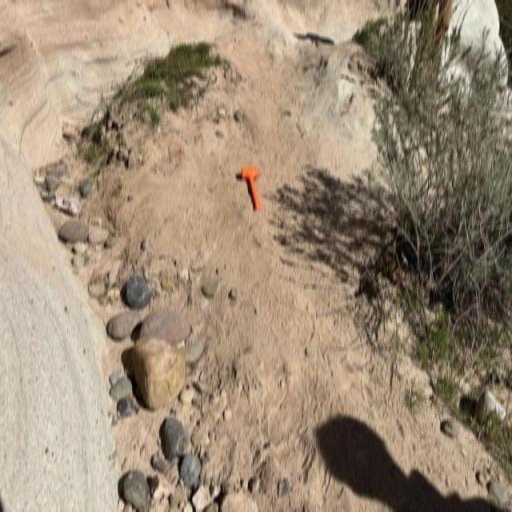mallet: (240, 166, 262, 212)
